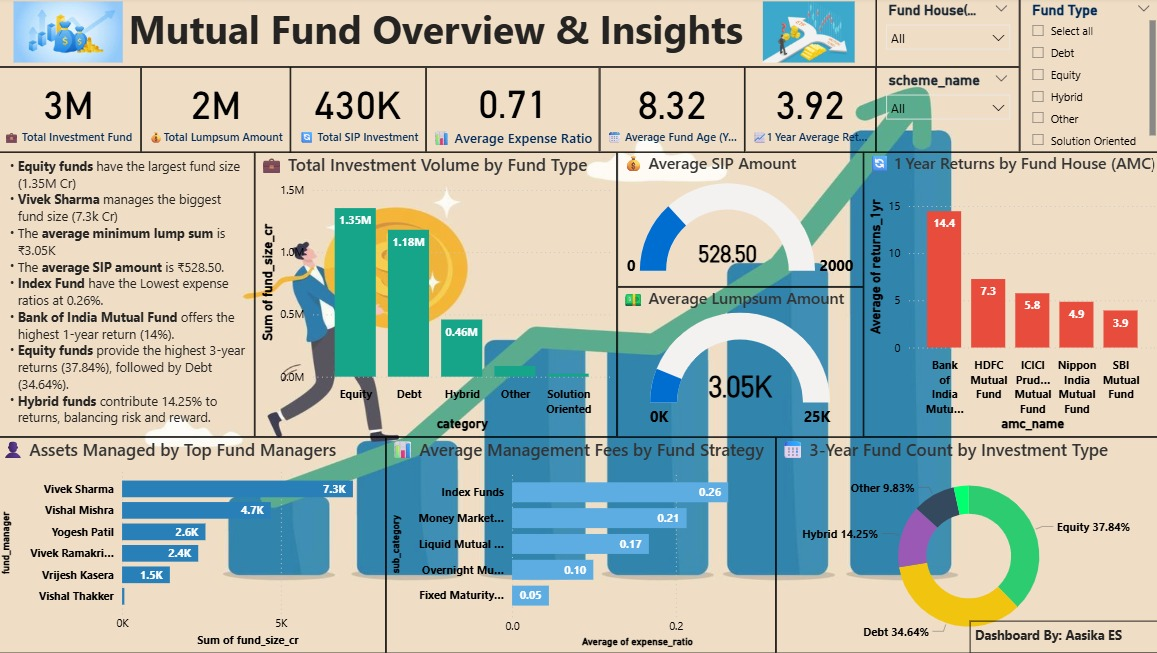

This screenshot's page, from the dashboard's own definition file:
{"tool":"powerbi","page":{"name":"Page 1","canvas":[1280,720],"ordinal":0},"visuals":[{"type":"donutChart","title":"📅 3-Year Fund Count by Investment Type","fields":{"Category":["Mutual Fund.category"],"Y":["Mutual Fund.returns_3yr"]},"box":[856.3,483,424,237.4],"z":0},{"type":"barChart","title":"📊 Average Management Fees by Fund Strategy","fields":{"Category":["Mutual Fund.sub_category"],"Y":["Mutual Fund.expense_ratio"]},"box":[428.1,483,428.1,237.4],"z":1000},{"type":"barChart","title":"👤 Assets Managed by Top Fund Managers","fields":{"Category":["Mutual Fund.fund_manager"],"Y":["Mutual Fund.fund_size_cr"]},"box":[0,483,428.1,237.4],"z":2000},{"type":"lineStackedColumnComboChart","title":"💼 Total Investment Volume by Fund Type","fields":{"Category":["Mutual Fund.category"],"Y":["Mutual Fund.fund_size_cr"]},"box":[284,170.2,397.9,312.9],"z":3000},{"type":"gauge","title":"💵 Average Lumpsum Amount","fields":{"Y":["Mutual Fund.min_lumpsum"],"MinValue":["Sum(Mutual Fund.min_lumpsum)1"],"MaxValue":["Sum(Mutual Fund.min_lumpsum)2"]},"box":[682,318.4,270.3,164.7],"z":4000},{"type":"gauge","title":"💰 Average SIP Amount","fields":{"Y":["Mutual Fund.min_sip"],"MinValue":["Sum(Mutual Fund.min_sip)1"],"MaxValue":["Sum(Mutual Fund.min_sip)2"]},"box":[682,170.2,270.3,148.2],"z":5000},{"type":"columnChart","title":"🔄 1 Year Returns by Fund House (AMC)","fields":{"Category":["Mutual Fund.amc_name"],"Y":["Mutual Fund.returns_1yr"]},"box":[952.3,170.2,328,312.9],"z":6000},{"type":"slicer","fields":{"Values":["Mutual Fund.category"]},"box":[1123.8,0,156.4,170.2],"z":7000},{"type":"slicer","fields":{"Values":["Mutual Fund.amc_name"]},"box":[966,0,157.8,76.8],"z":8000},{"type":"slicer","fields":{"Values":["Mutual Fund.scheme_name"]},"box":[966,76.8,157.8,93.3],"z":9000},{"type":"card","fields":{"Values":["Mutual Fund.fund_size_cr"]},"box":[0,76.8,159.2,93.3],"z":10000},{"type":"card","fields":{"Values":["Mutual Fund.min_lumpsum"]},"box":[159.2,76.8,164.7,93.3],"z":11000},{"type":"card","fields":{"Values":["Mutual Fund.min_sip"]},"box":[322.5,76.8,149.6,93.3],"z":12000},{"type":"card","fields":{"Values":["Mutual Fund.expense_ratio"]},"box":[472,76.8,190.7,93.3],"z":13000},{"type":"card","fields":{"Values":["Mutual Fund.fund_age_yr"]},"box":[662.8,76.8,159.2,93.3],"z":14000},{"type":"card","fields":{"Values":["Mutual Fund.returns_1yr"]},"box":[822,76.8,144.1,93.3],"z":15000},{"type":"textbox","box":[0,0,966,76.8],"z":16000},{"type":"textbox","box":[0,170.2,284,312.9],"z":17000},{"type":"image","box":[0,0,159.2,76.8],"z":18000},{"type":"image","box":[817.8,0,148.2,76.8],"z":19000},{"type":"textbox","box":[1069,684.7,211.3,35.7],"z":20000}]}

Visuals, with their boxes in screenshot pixels (x1, y1, x2, y2), scaled from the page's 1280x720 canvas onto the 1157x653 screenshot:
"📅 3-Year Fund Count by Investment Type" donutChart: (left=774, top=438, right=1156, bottom=652)
"📊 Average Management Fees by Fund Strategy" barChart: (left=387, top=438, right=774, bottom=652)
"👤 Assets Managed by Top Fund Managers" barChart: (left=0, top=438, right=387, bottom=652)
"💼 Total Investment Volume by Fund Type" lineStackedColumnComboChart: (left=257, top=154, right=616, bottom=438)
"💵 Average Lumpsum Amount" gauge: (left=616, top=289, right=861, bottom=438)
"💰 Average SIP Amount" gauge: (left=616, top=154, right=861, bottom=289)
"🔄 1 Year Returns by Fund House (AMC)" columnChart: (left=861, top=154, right=1156, bottom=438)
slicer - Mutual Fund.category: (left=1016, top=0, right=1156, bottom=154)
slicer - Mutual Fund.amc_name: (left=873, top=0, right=1016, bottom=70)
slicer - Mutual Fund.scheme_name: (left=873, top=70, right=1016, bottom=154)
card - Mutual Fund.fund_size_cr: (left=0, top=70, right=144, bottom=154)
card - Mutual Fund.min_lumpsum: (left=144, top=70, right=293, bottom=154)
card - Mutual Fund.min_sip: (left=292, top=70, right=427, bottom=154)
card - Mutual Fund.expense_ratio: (left=427, top=70, right=599, bottom=154)
card - Mutual Fund.fund_age_yr: (left=599, top=70, right=743, bottom=154)
card - Mutual Fund.returns_1yr: (left=743, top=70, right=873, bottom=154)
textbox: (left=0, top=0, right=873, bottom=70)
textbox: (left=0, top=154, right=257, bottom=438)
image: (left=0, top=0, right=144, bottom=70)
image: (left=739, top=0, right=873, bottom=70)
textbox: (left=966, top=621, right=1156, bottom=652)
